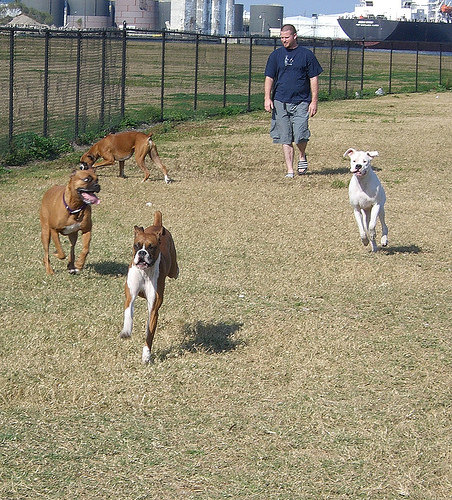without_mask: (277, 26, 299, 50)
